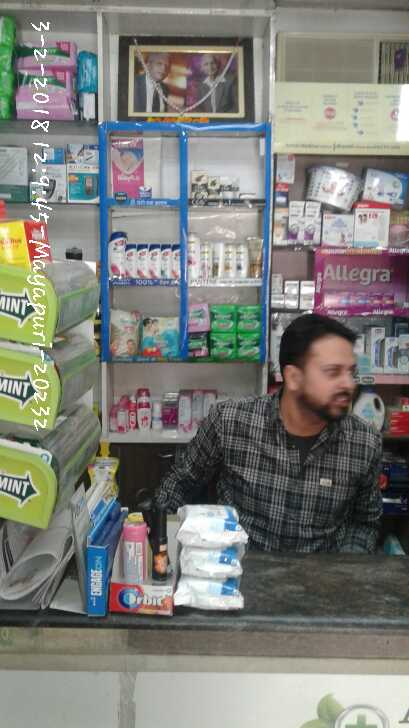vicks: (133, 183, 156, 203)
